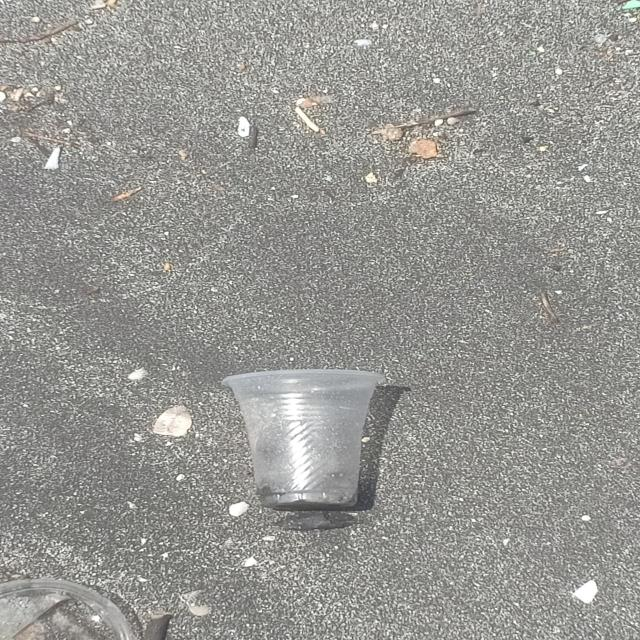plastic_waste: (221, 369, 388, 513)
